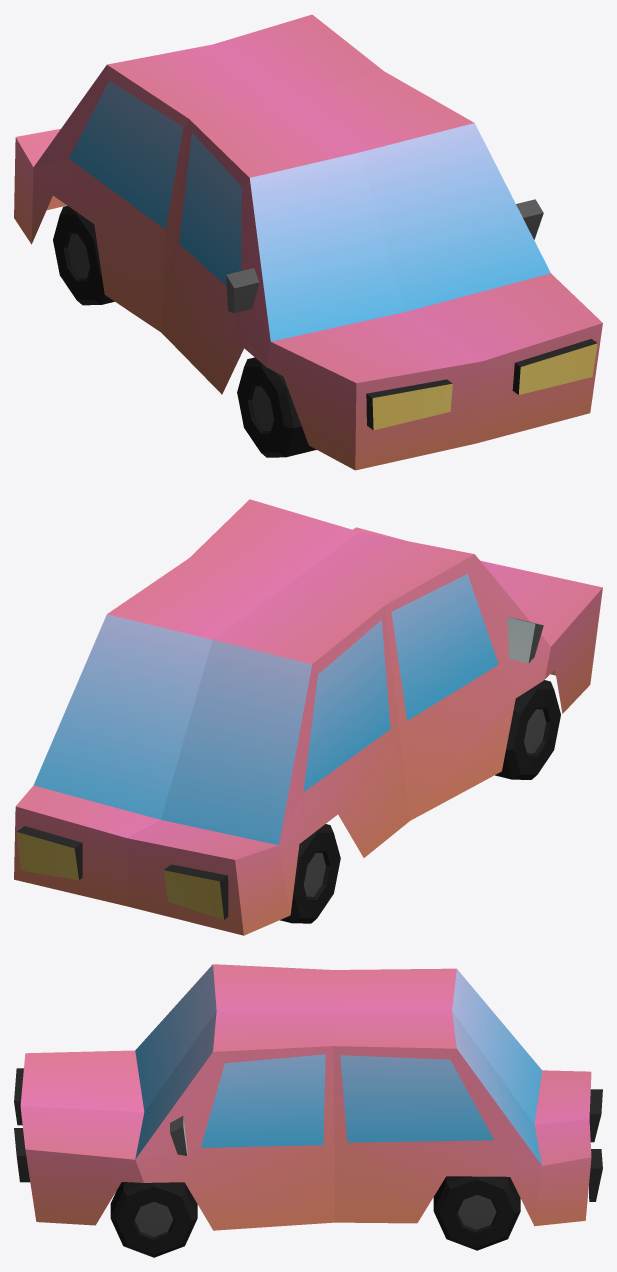
Rendered from generic1.fbx.
3 views of the same model, one above another, from view 1: azimuth 30°, elevation 25°; view 2: azimuth 150°, elevation 25°; view 3: azimuth 270°, elevation 25° (orthographic). The views are drawn at different scales.
Parts seen in each view (by area): view 1: car_base, car_wheels, car_light_front, car_mirrors; view 2: car_base, car_wheels, car_light_back, car_mirrors; view 3: car_base, car_wheels, car_light_back, car_light_front, car_mirrors.
Part boxes in pixels (x1,y1,x2,y2): car_base: (14, 14, 602, 470); car_wheels: (53, 205, 316, 457); car_light_front: (366, 339, 597, 430); car_mirrors: (226, 199, 543, 313); car_base: (14, 499, 602, 935); car_wheels: (280, 680, 560, 923); car_light_back: (16, 826, 228, 919); car_mirrors: (507, 617, 543, 663); car_base: (20, 964, 591, 1230); car_wheels: (110, 1176, 520, 1257); car_light_back: (589, 1089, 602, 1201); car_light_front: (14, 1068, 30, 1182); car_mirrors: (170, 1116, 187, 1155).
Size of the model in its own units: 203 by 419 by 155.
